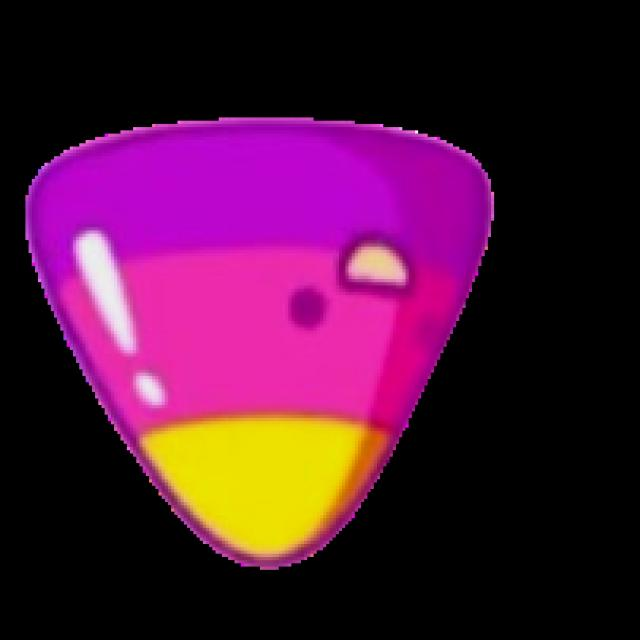Ground Monster - Red Bullet: (22, 116, 498, 572)
